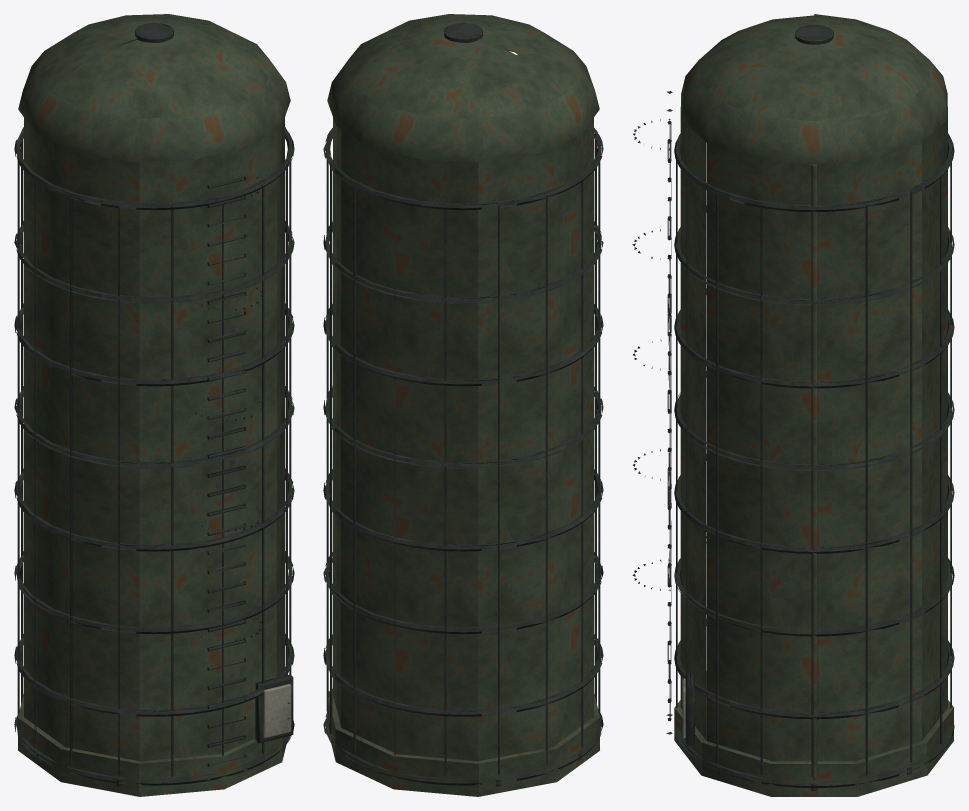
File: silo.glb
3 views of the same model, side by side, from view 1: azimuth 30°, elevation 25°; view 2: azimuth 150°, elevation 25°; view 3: azimuth 270°, elevation 25° (orthographic).
Visible parts, largest first — view 1: part, Building_steel.002, Building_bronze.002, Hatch inset; view 2: part, Building_steel.002, Building_bronze.002; view 3: part, Building_steel.002, Building_bronze.002.
Boxes of the visible parts, x1,y1,x2,y2 form: part: (18,14,290,796); Building_steel.002: (14,23,294,785); Building_bronze.002: (17,140,291,786); Hatch inset: (263,684,291,738); part: (327,14,599,796); Building_steel.002: (323,23,603,785); Building_bronze.002: (326,134,600,786); part: (674,14,953,796); Building_steel.002: (632,25,954,787); Building_bronze.002: (667,121,951,791).
Bounding box in the file's own units: 4.61 × 12.84 × 5.3.
Materials: 3 (3 with a texture image).
